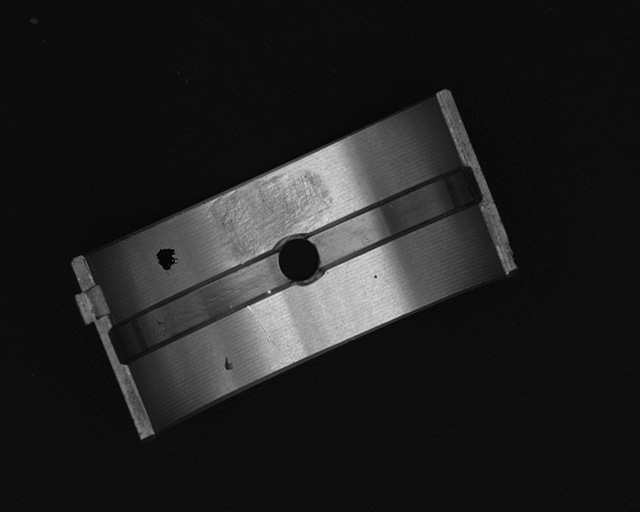blot: (156, 248, 178, 271)
bruise: (222, 356, 234, 373), (373, 274, 378, 280)
gap: (107, 250, 289, 364), (311, 164, 486, 269)
hole: (271, 233, 326, 289)
nick: (246, 306, 274, 345)
scratch: (206, 169, 335, 257)
